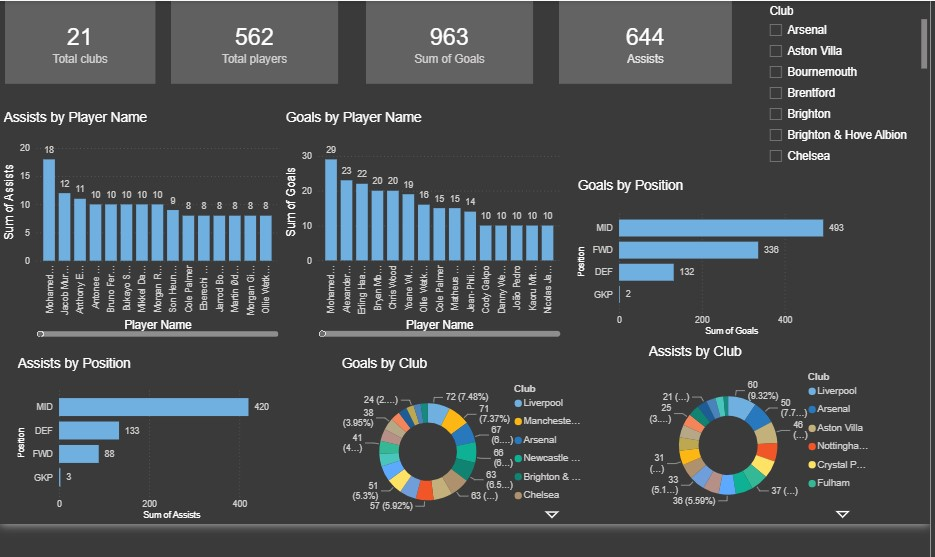

What the dashboard file says about the page in this screenshot:
{"tool":"powerbi","page":{"name":"Page 1","canvas":[1280,720],"ordinal":0},"visuals":[{"type":"barChart","title":" Goals by Position","fields":{"Y":["Sum(epl_player_stats_24_25.Goals)"],"Category":["epl_player_stats_24_25.Position"]},"box":[790,244,388,223],"z":0},{"type":"columnChart","title":" Goals by Player Name","fields":{"Y":["Sum(epl_player_stats_24_25.Goals)"],"Category":["epl_player_stats_24_25.Player Name"]},"box":[388,150,388,317],"z":1000},{"type":"columnChart","title":"Assists by Player Name","fields":{"Y":["Sum(epl_player_stats_24_25.Assists)"],"Category":["epl_player_stats_24_25.Player Name"]},"box":[0,149.9,388.4,317.4],"z":2000},{"type":"barChart","title":" Assists by Position","fields":{"Y":["Sum(epl_player_stats_24_25.Assists)"],"Category":["epl_player_stats_24_25.Position"]},"box":[19.5,488.6,388.4,231.4],"z":3000},{"type":"donutChart","title":" Goals by Club","fields":{"Category":["epl_player_stats_24_25.Club"],"Y":["Sum(epl_player_stats_24_25.Goals)"]},"box":[464.6,488.6,350.2,231.4],"z":4000},{"type":"slicer","fields":{"Values":["epl_player_stats_24_25.Club"]},"box":[1045.5,0,234.5,233.6],"z":5000},{"type":"card","fields":{"Values":["Count(epl_player_stats_24_25.Club)"]},"box":[7.1,0,206.6,114.4],"z":6000},{"type":"card","fields":{"Values":["Count(epl_player_stats_24_25.Player Name)"]},"box":[235,0,229.7,114.4],"z":7000},{"type":"card","fields":{"Values":["Sum(epl_player_stats_24_25.Goals)"]},"box":[503.6,0,229.7,114.4],"z":8000},{"type":"card","fields":{"Values":["Sum(epl_player_stats_24_25.Assists)"]},"box":[768.8,0,237.6,114.4],"z":9000},{"type":"donutChart","title":" Assists by Club","fields":{"Y":["Sum(epl_player_stats_24_25.Assists)"],"Category":["epl_player_stats_24_25.Club"]},"box":[887.6,472.7,322.9,247.2],"z":10000}]}

Visuals, with their boxes on the page's 1280x720 design canvas (x1, y1, x2, y2). These are canvas units, not pixel positions in the 935x557 screenshot, which may show the page scaled, cropped or inside an application window:
" Goals by Position" barChart: detection(790, 244, 1178, 467)
" Goals by Player Name" columnChart: detection(388, 150, 776, 467)
"Assists by Player Name" columnChart: detection(0, 150, 388, 467)
" Assists by Position" barChart: detection(20, 489, 408, 720)
" Goals by Club" donutChart: detection(465, 489, 815, 720)
slicer - epl_player_stats_24_25.Club: detection(1046, 0, 1280, 234)
card - Count(epl_player_stats_24_25.Club): detection(7, 0, 214, 114)
card - Count(epl_player_stats_24_25.Player Name): detection(235, 0, 465, 114)
card - Sum(epl_player_stats_24_25.Goals): detection(504, 0, 733, 114)
card - Sum(epl_player_stats_24_25.Assists): detection(769, 0, 1006, 114)
" Assists by Club" donutChart: detection(888, 473, 1210, 720)
